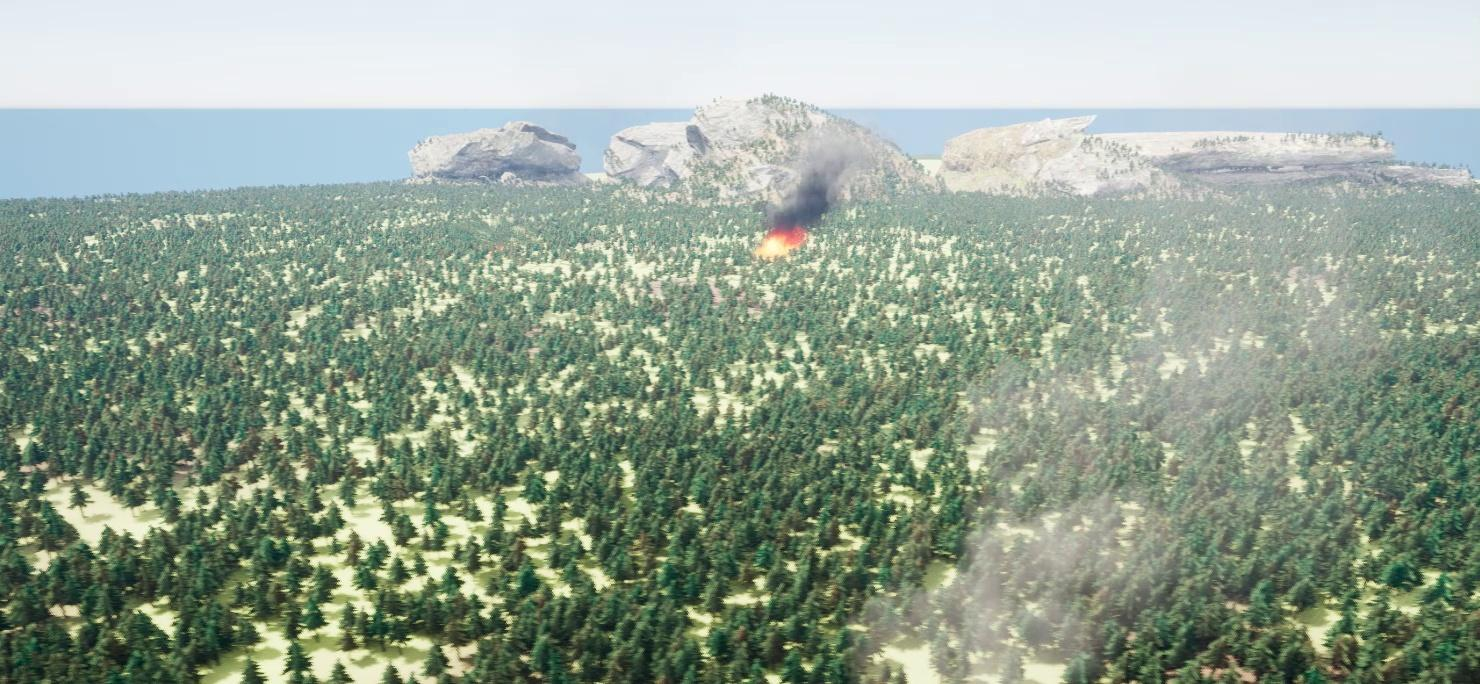fire: (751, 229, 813, 262)
smoke: (864, 248, 1397, 683), (769, 131, 867, 226)
